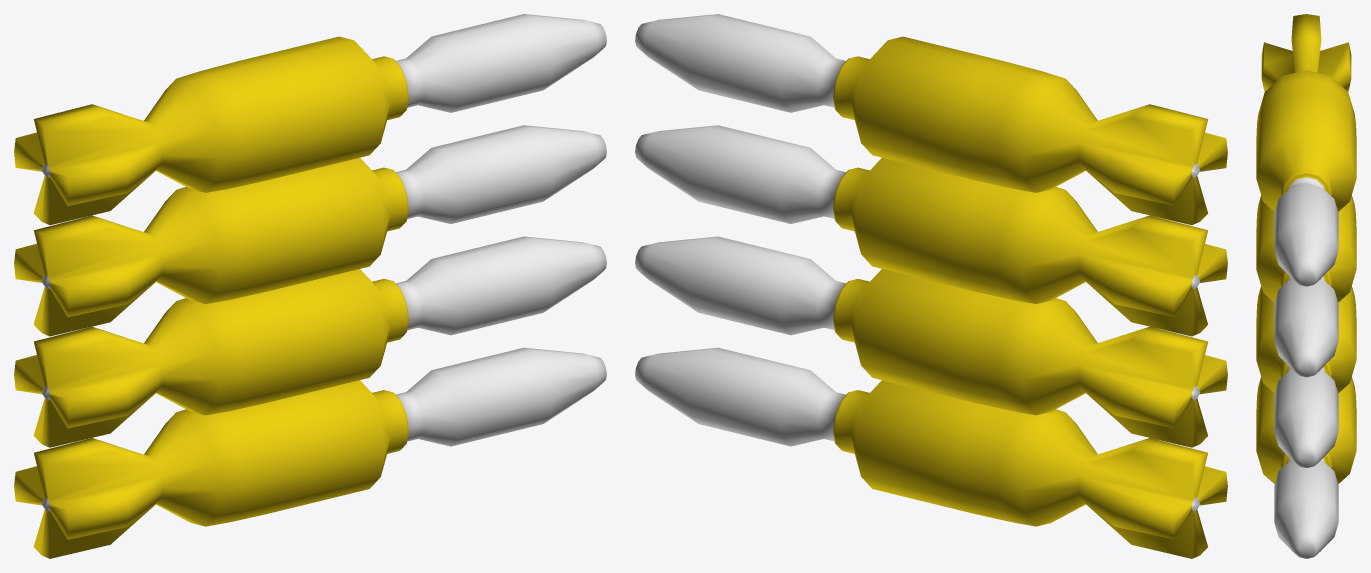
File: ProjectilesInMagazine.fbx
The picture shows the model from 3 angles, left to right: view 1: azimuth 30°, elevation 25°; view 2: azimuth 150°, elevation 25°; view 3: azimuth 270°, elevation 25°; orthographic projection. The views are drawn at different scales.
Visible parts, largest first — view 1: Projectile.001; view 2: Projectile.001; view 3: Projectile.001.
Part boxes in pixels (x1,y1,x2,y2): Projectile.001: (14, 14, 606, 558); Projectile.001: (635, 14, 1227, 558); Projectile.001: (1256, 14, 1356, 558).
Size of the model in its own units: 43.39 by 33.01 by 8.25.
